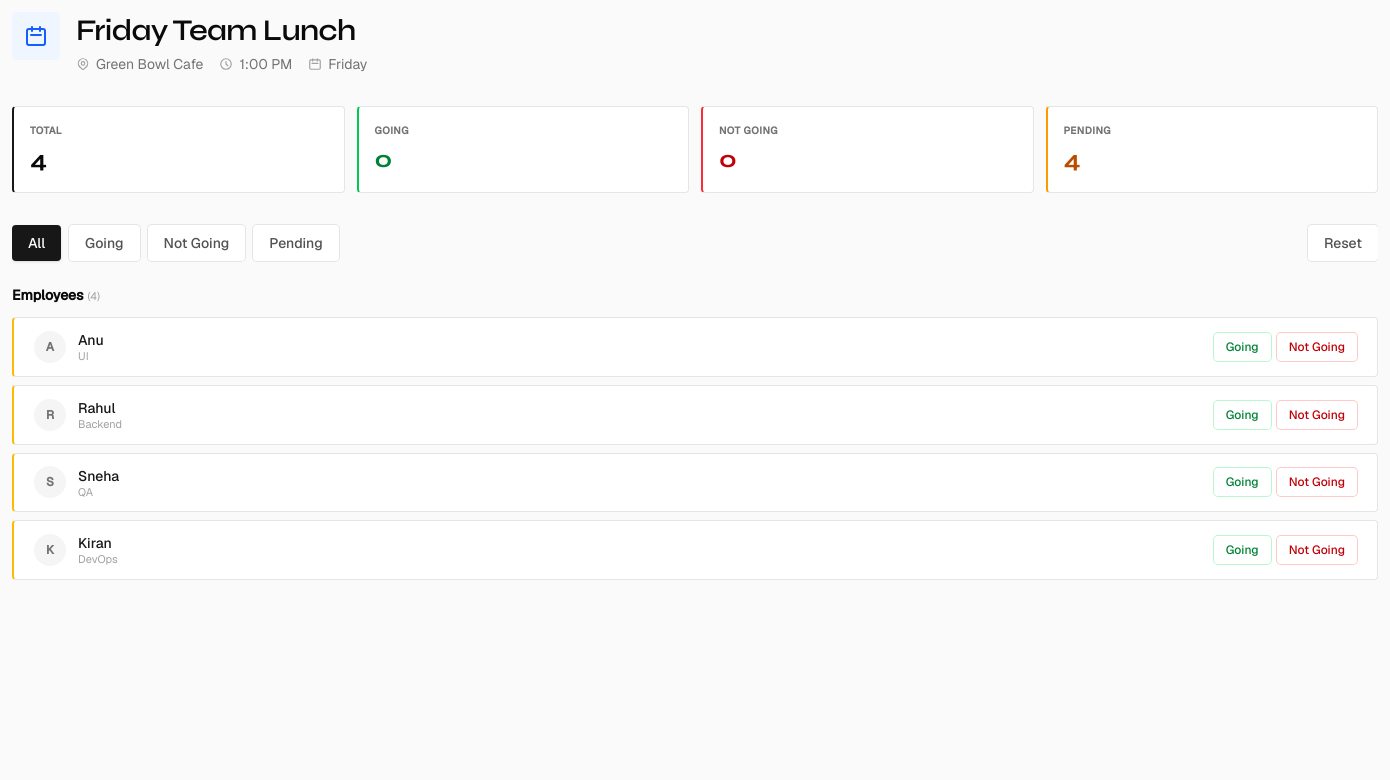
Test case: Conditional Rendering › filter shows only Going employees
Click the button "Going" in the row of "Anu": (1242, 347) [1214, 333, 1271, 361]
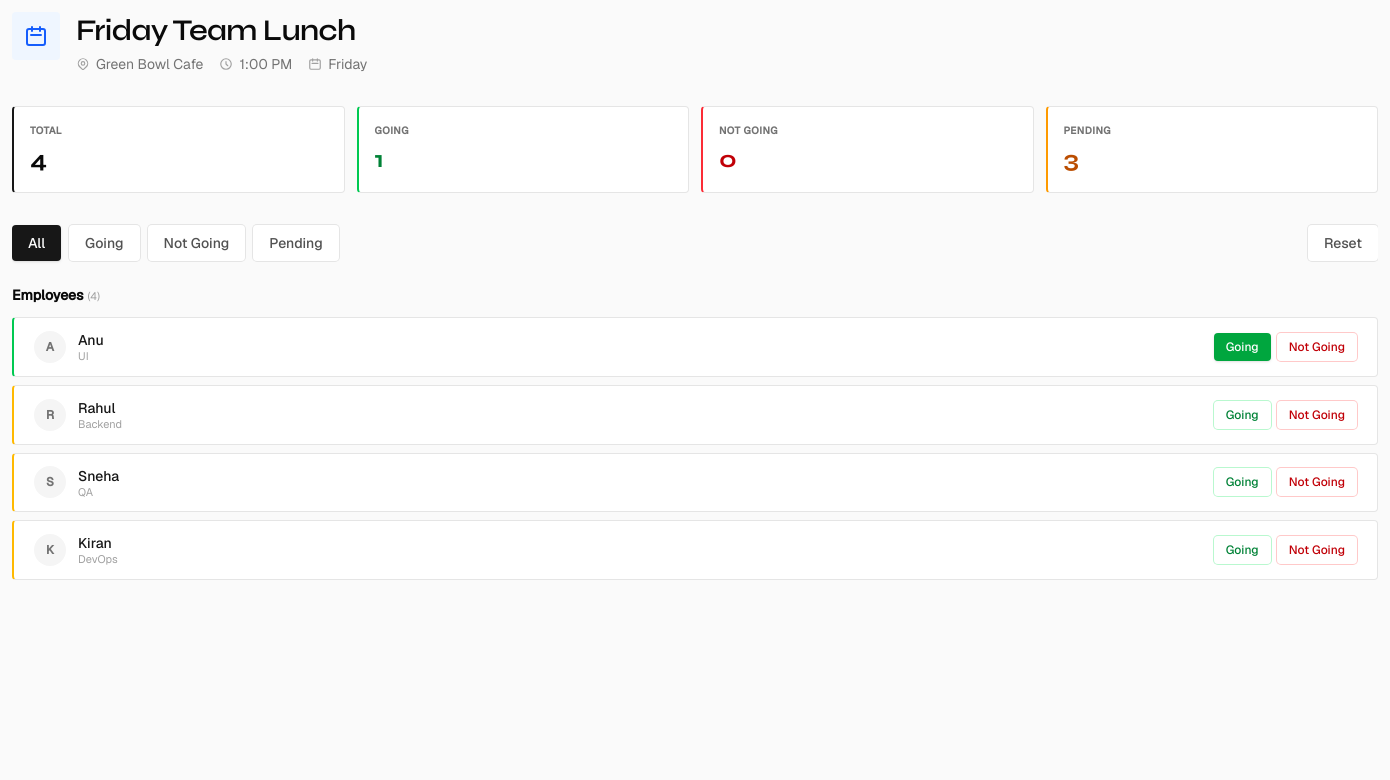
Click the button "Going" in the row of "Backend": (1242, 415) [1214, 401, 1271, 429]
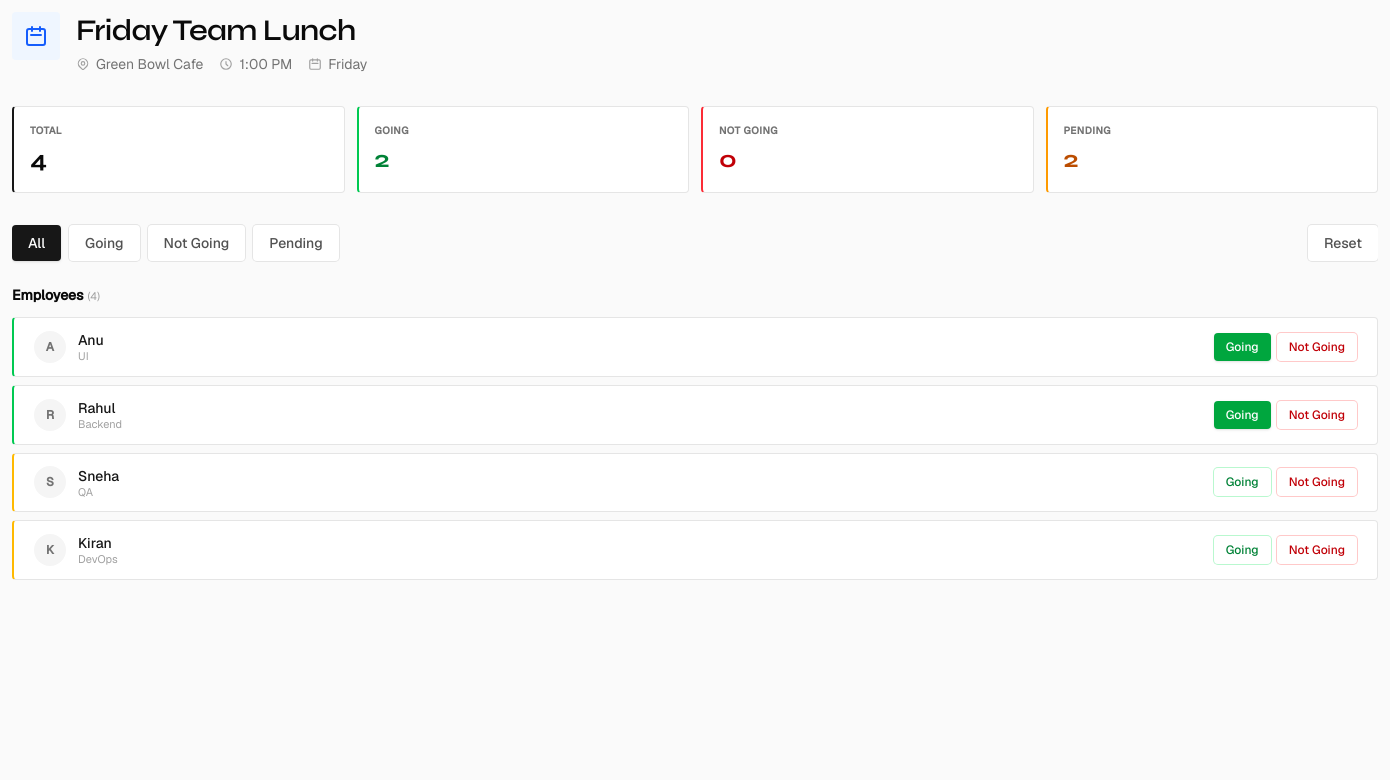
Click the 1st button "Going": (104, 243) [69, 225, 140, 261]
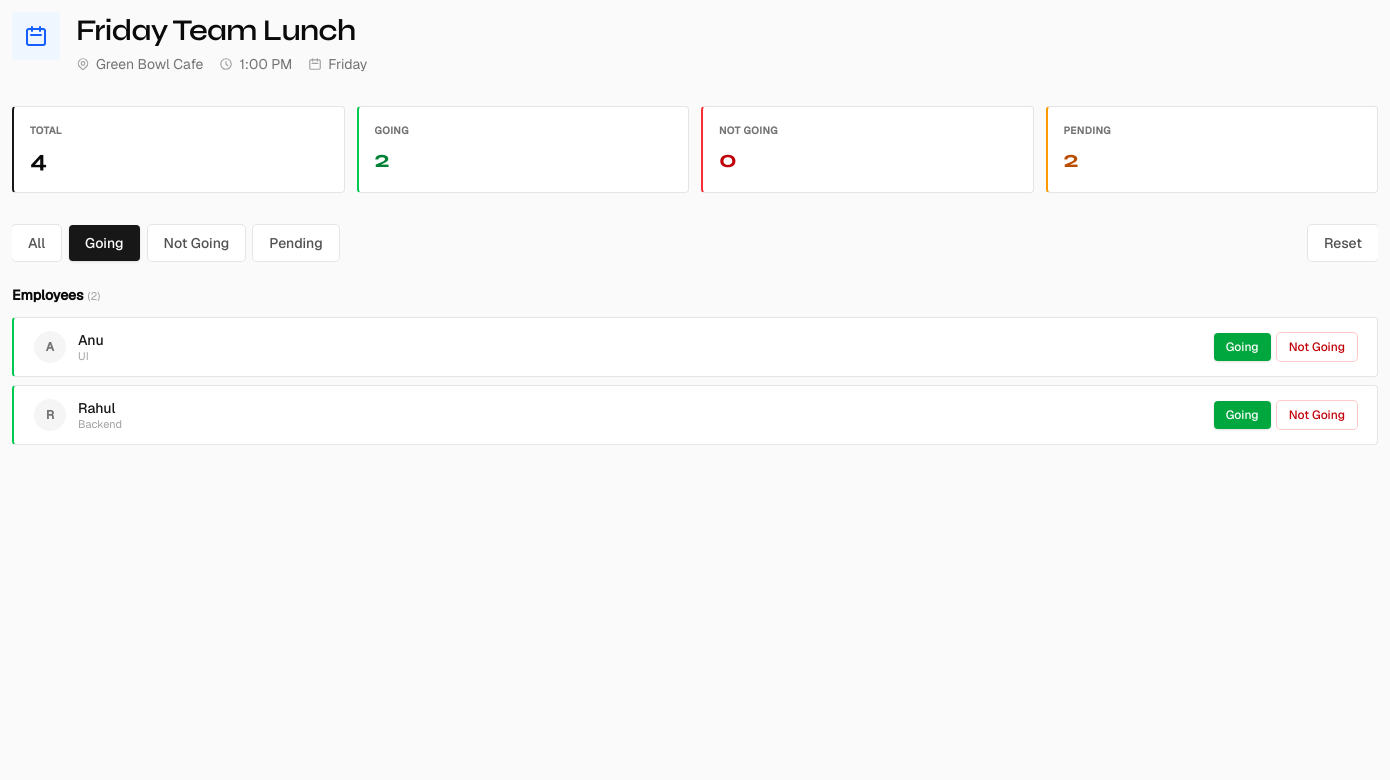
Expected: the text "Anu" is shown, [78, 331, 104, 349]
Expected: the text "Sneha" is gone
Expected: the text "Kiran" is gone
